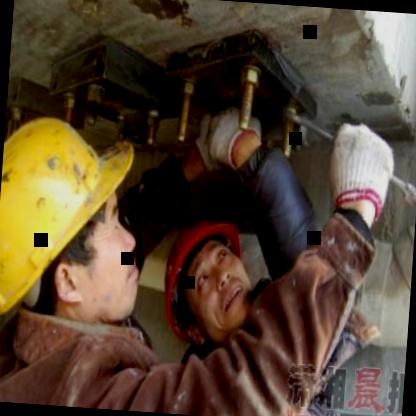helmet: (0, 102, 154, 355), (158, 208, 261, 347)
